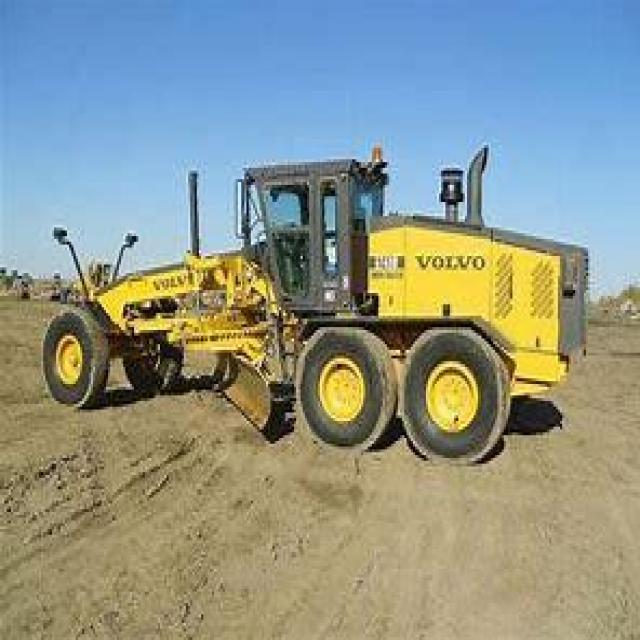buldozerpayloadergrader: (32, 142, 606, 472)
